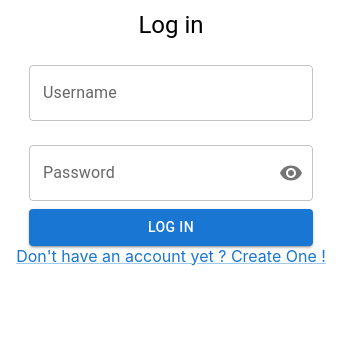
switch link text when clicked on
Click the link with test id "link".
click(171, 256)  # box [16,246,326,266]
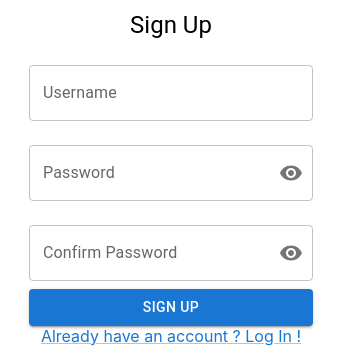
Check: the link with test id "link" reads "Already have an account ? Log In !", box [41,326,301,346]
